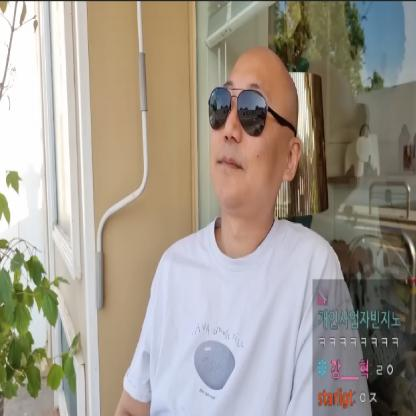streamer: (112, 45, 373, 416)
